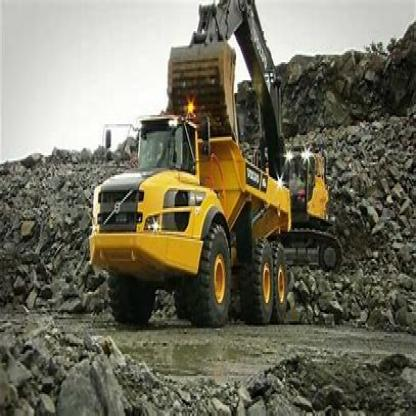dump_truck: (75, 108, 304, 330)
